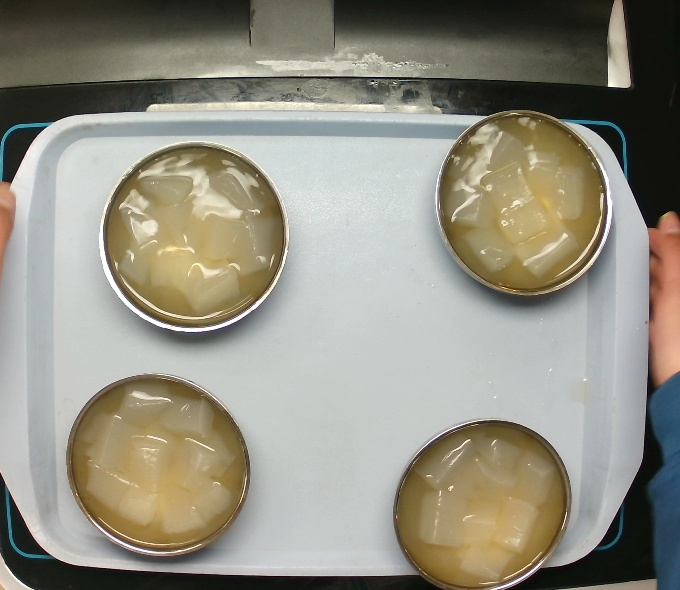wcq-YeGuoLi: (90, 140, 301, 330), (52, 372, 265, 558), (433, 110, 615, 307), (396, 415, 571, 586)
